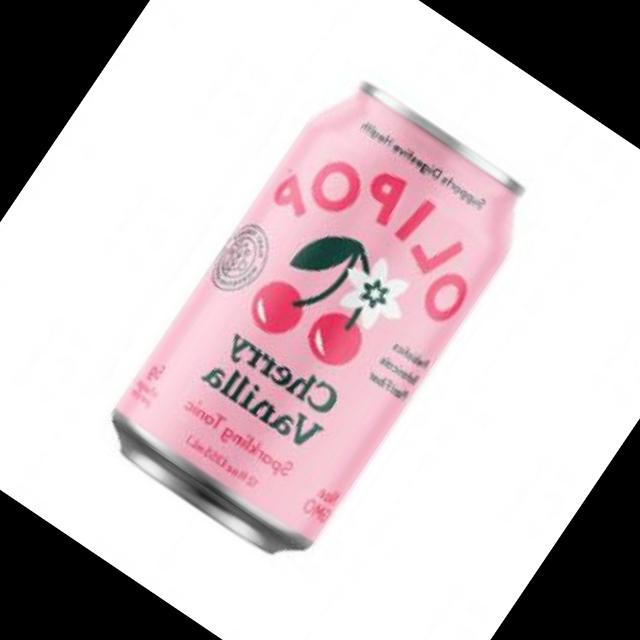Kaleng: (92, 62, 550, 576)
